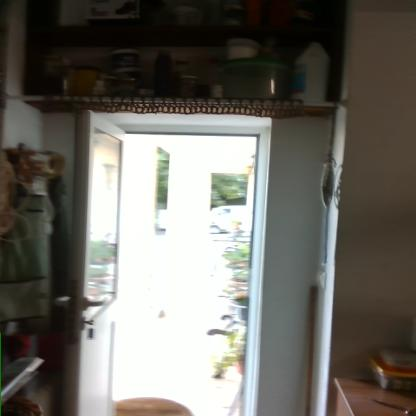open: (61, 100, 293, 416)
